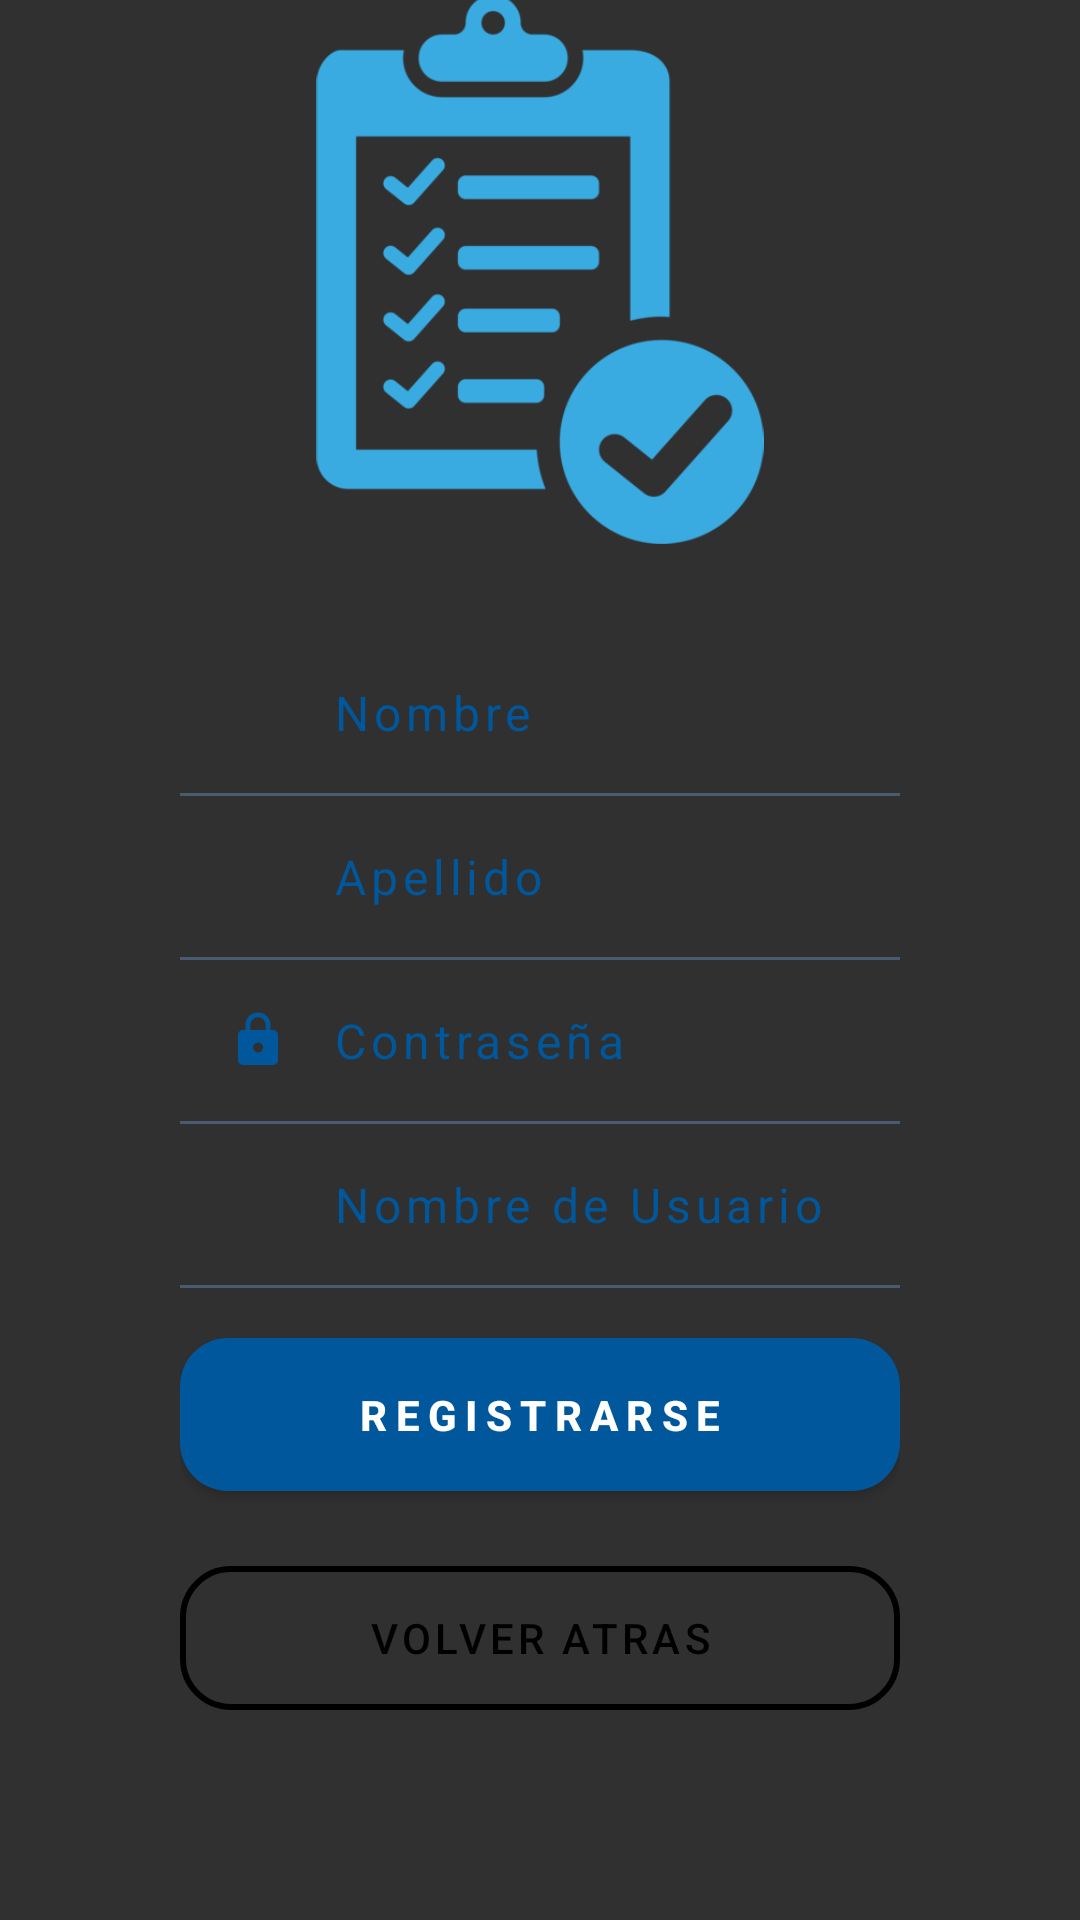

Point at icon controls on the screen. Image size 1080×1920, points as (x,y).
password: (258,1038)
